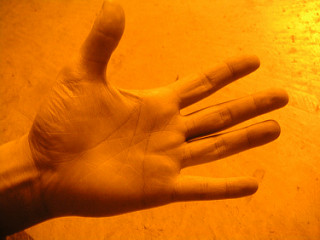palm: (42, 85, 180, 208)
